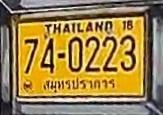0: (68, 36, 82, 71)
2: (84, 36, 99, 72), (102, 36, 116, 72)
3: (120, 34, 135, 70)
4: (40, 37, 54, 73)
7: (24, 38, 37, 73)
SPK: (43, 76, 117, 92)
